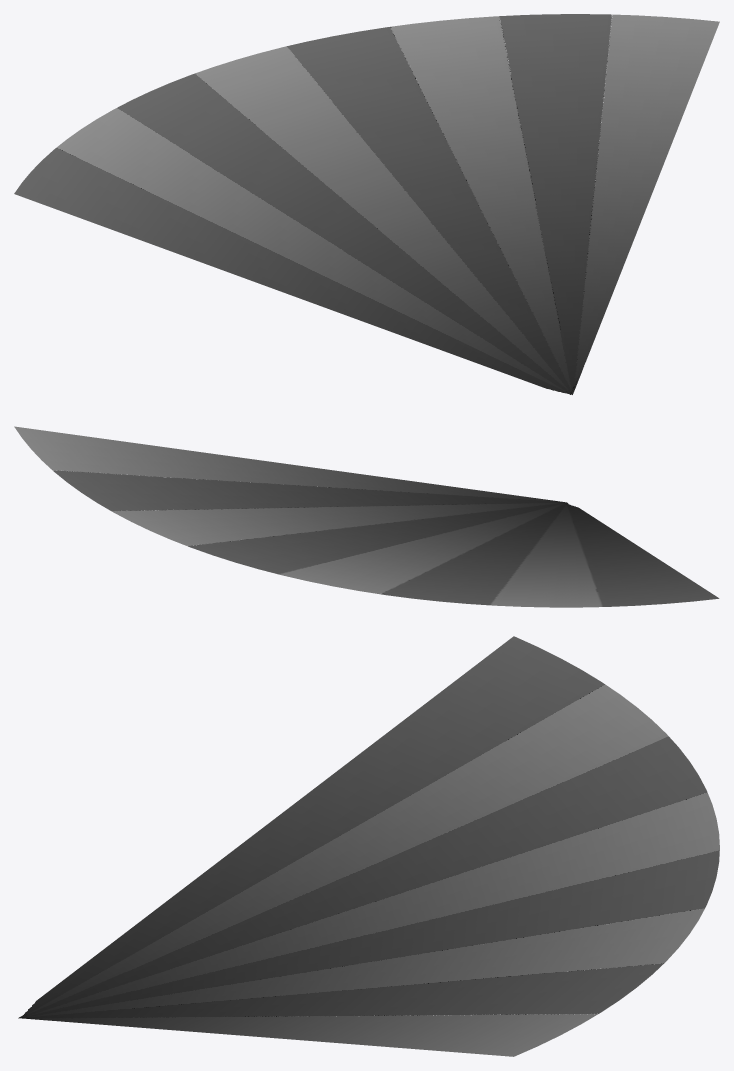
The model's file is Stage.obj.
3 renders of one model, top to bottom at view 1: azimuth 30°, elevation 25°; view 2: azimuth 150°, elevation 25°; view 3: azimuth 270°, elevation 25°, orthographic. The views are drawn at different scales.
Parts seen in each view (by area): view 1: 円.001; view 2: 円.001; view 3: 円.001.
Boxes of the visible parts, x1=… form: 円.001: x1=14, y1=14, x2=719, y2=394; 円.001: x1=14, y1=426, x2=719, y2=607; 円.001: x1=18, y1=636, x2=719, y2=1056.
Bounding box in the file's own units: 627 × 119 × 445.
Materials: 1 (1 with a texture image).
